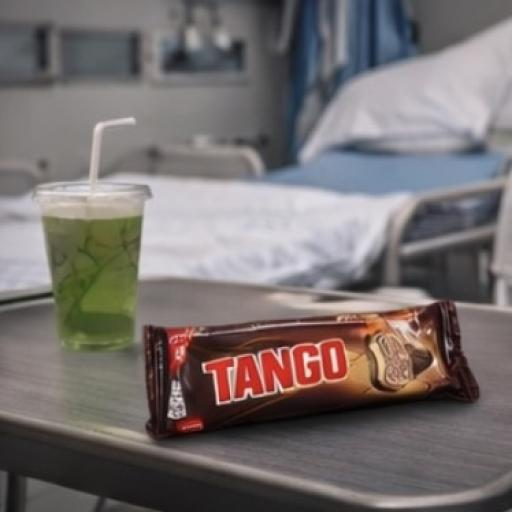tango: (100, 266, 496, 458)
